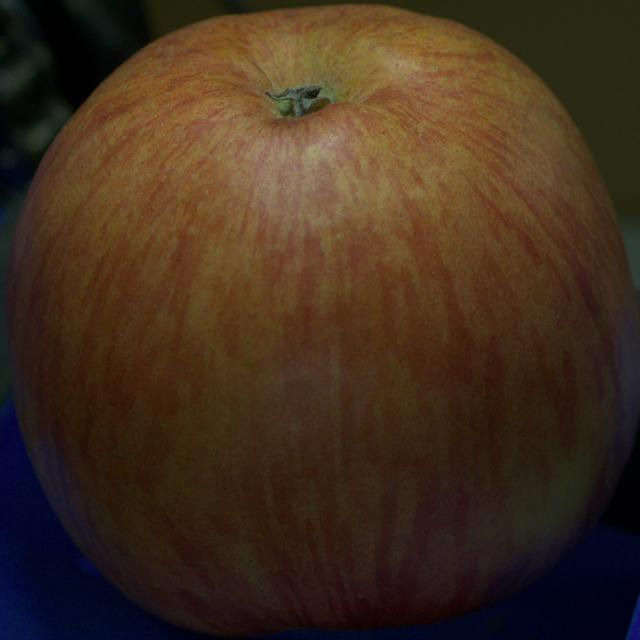apple: (6, 6, 639, 636)
